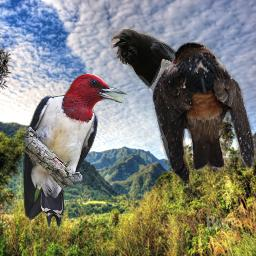Crow: (111, 29, 189, 124)
Swallow: (152, 42, 256, 185)
Woodpecker: (19, 74, 131, 230)
